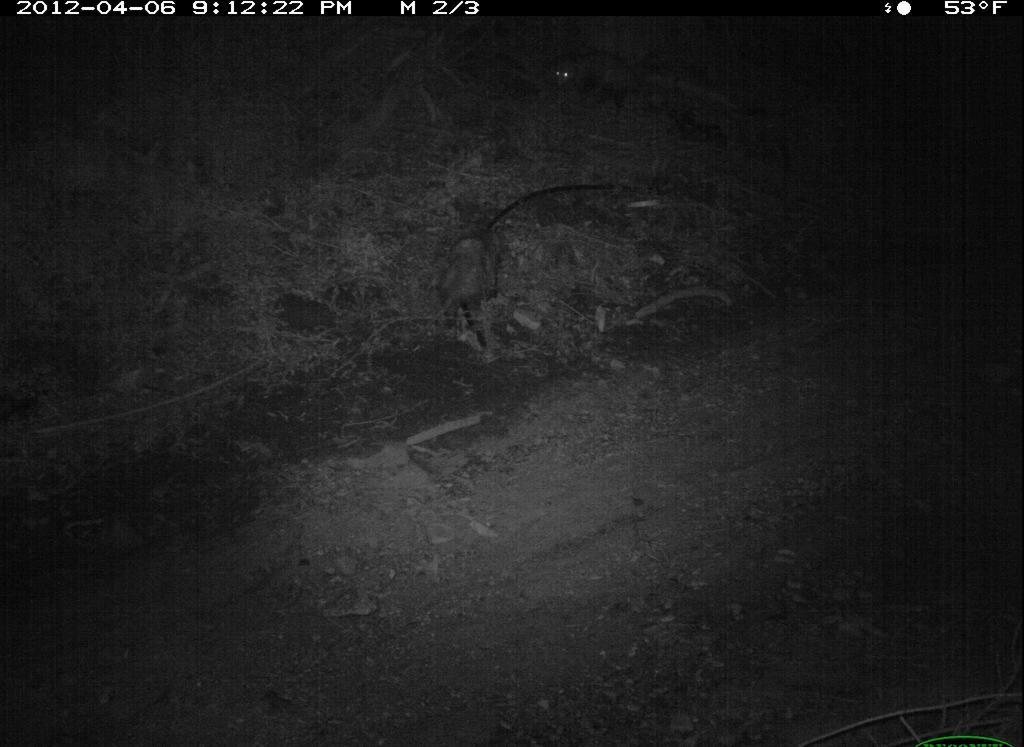opossum: (405, 228, 501, 360), (548, 48, 649, 117)
